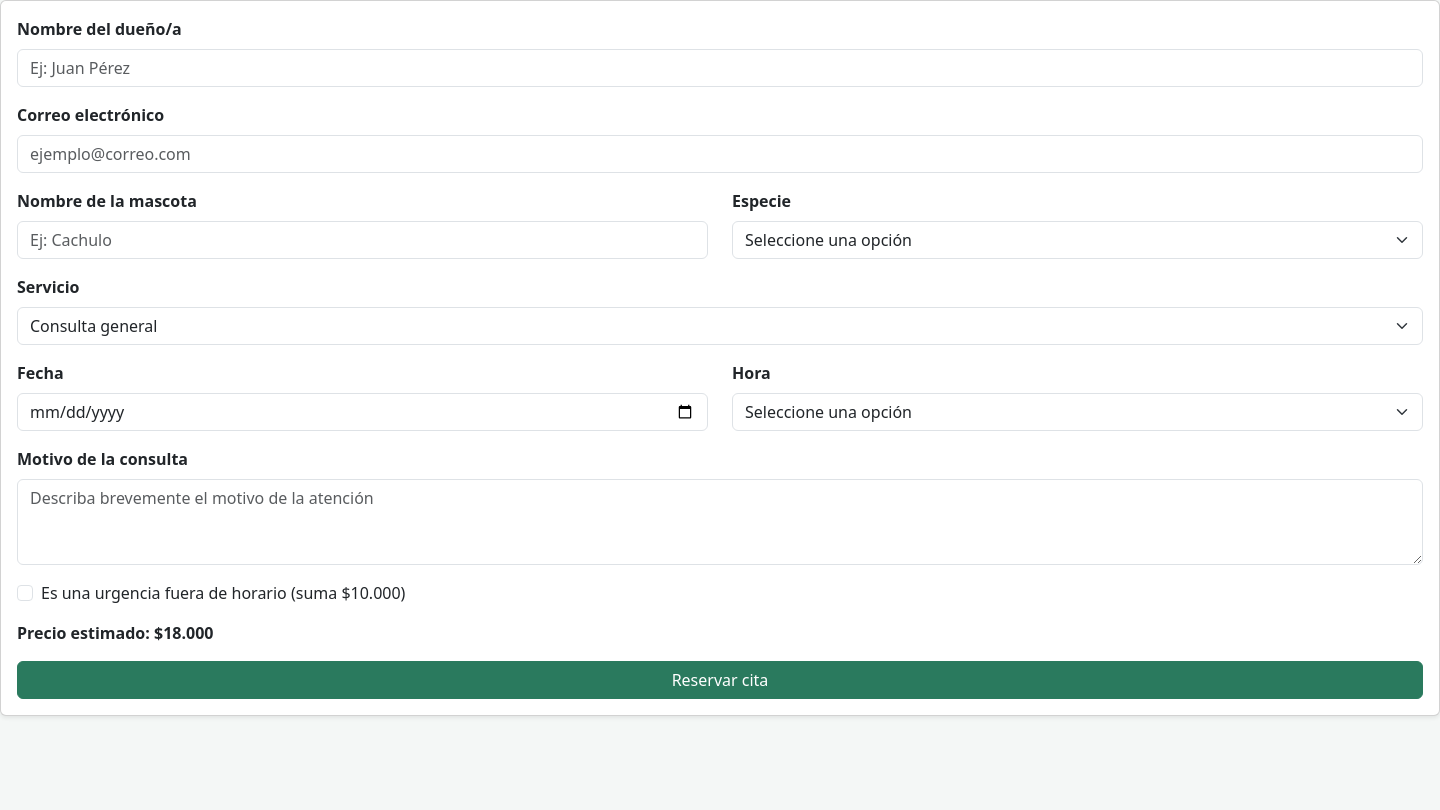
FormularioSolicitudCita › suma $10.000 al precio cuando se marca la urgencia en una consulta
Check: the text with test id "precio-final" shows "$18.000", box [154, 622, 214, 644]
Click the checkbox labelled "Es una urgencia fuera de horario (suma $10.000)" at (25, 593), box [17, 585, 33, 601]
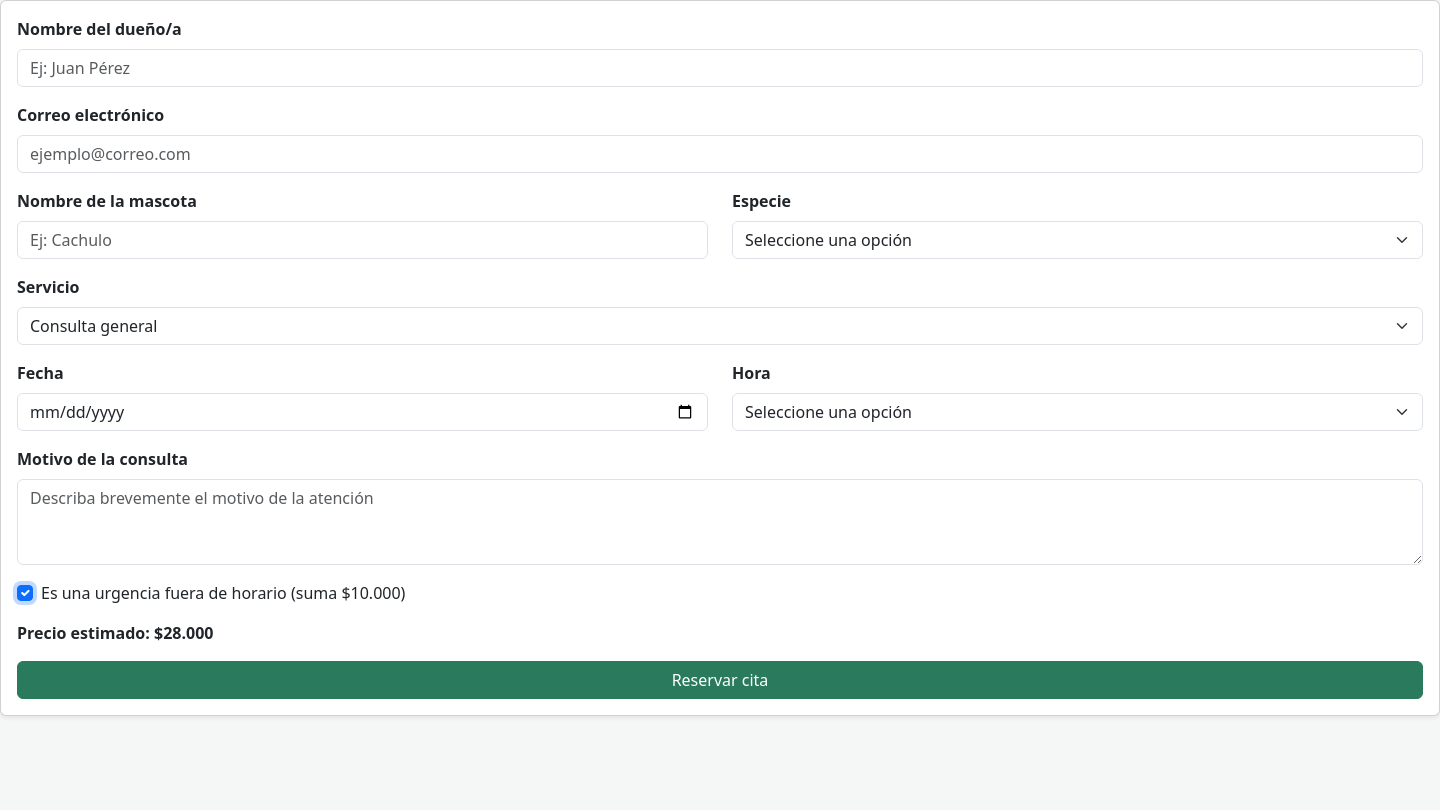
Check: the text with test id "precio-final" shows "$28.000", box [154, 622, 214, 644]
